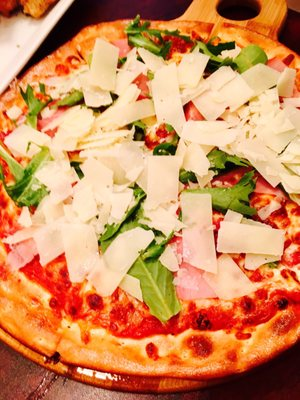sandwich: (0, 1, 300, 396)
